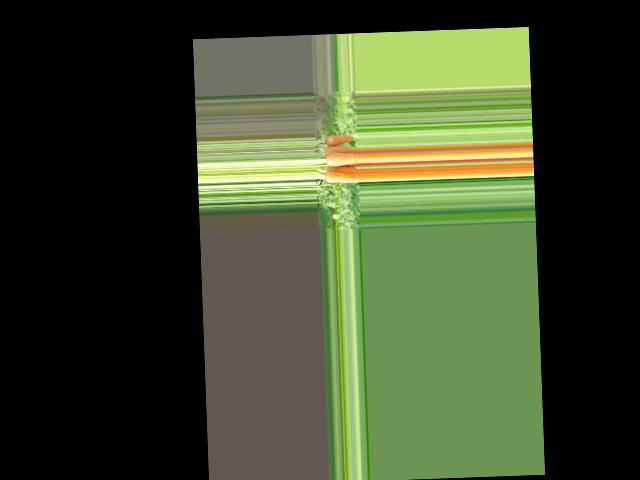carrot: (324, 131, 358, 147)
